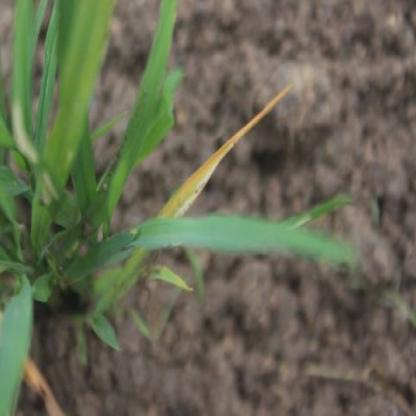Tungro: (157, 92, 281, 219)
